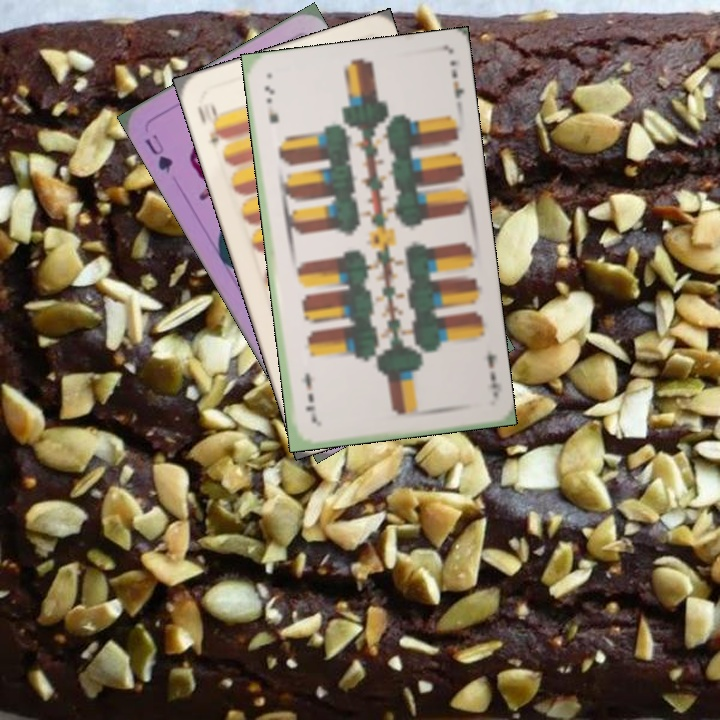E10: (193, 97, 229, 147)
E7: (483, 349, 504, 400), (260, 81, 281, 126)
GU: (140, 130, 176, 176)
